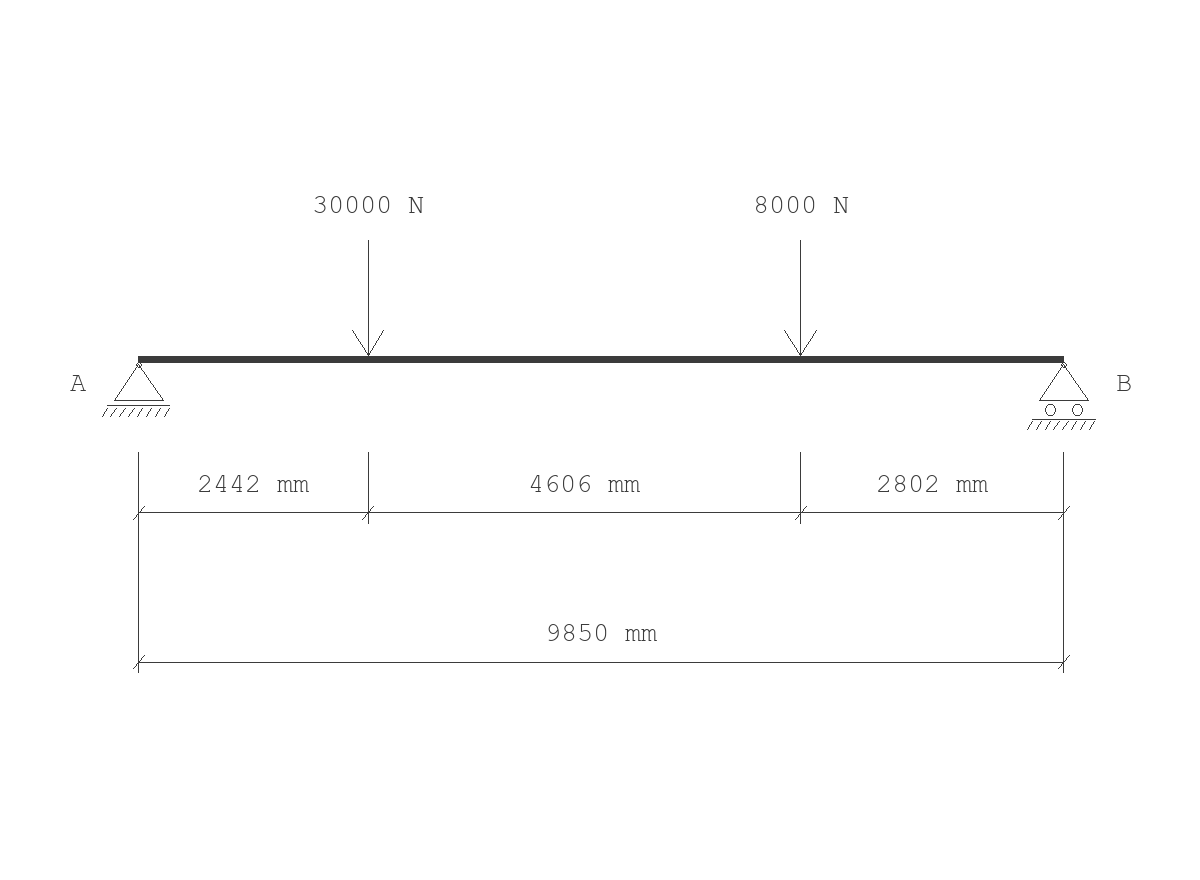pin_support: (102, 362, 170, 417)
point_load: (784, 240, 817, 356), (352, 240, 384, 356)
roller_support: (1027, 362, 1096, 430)
